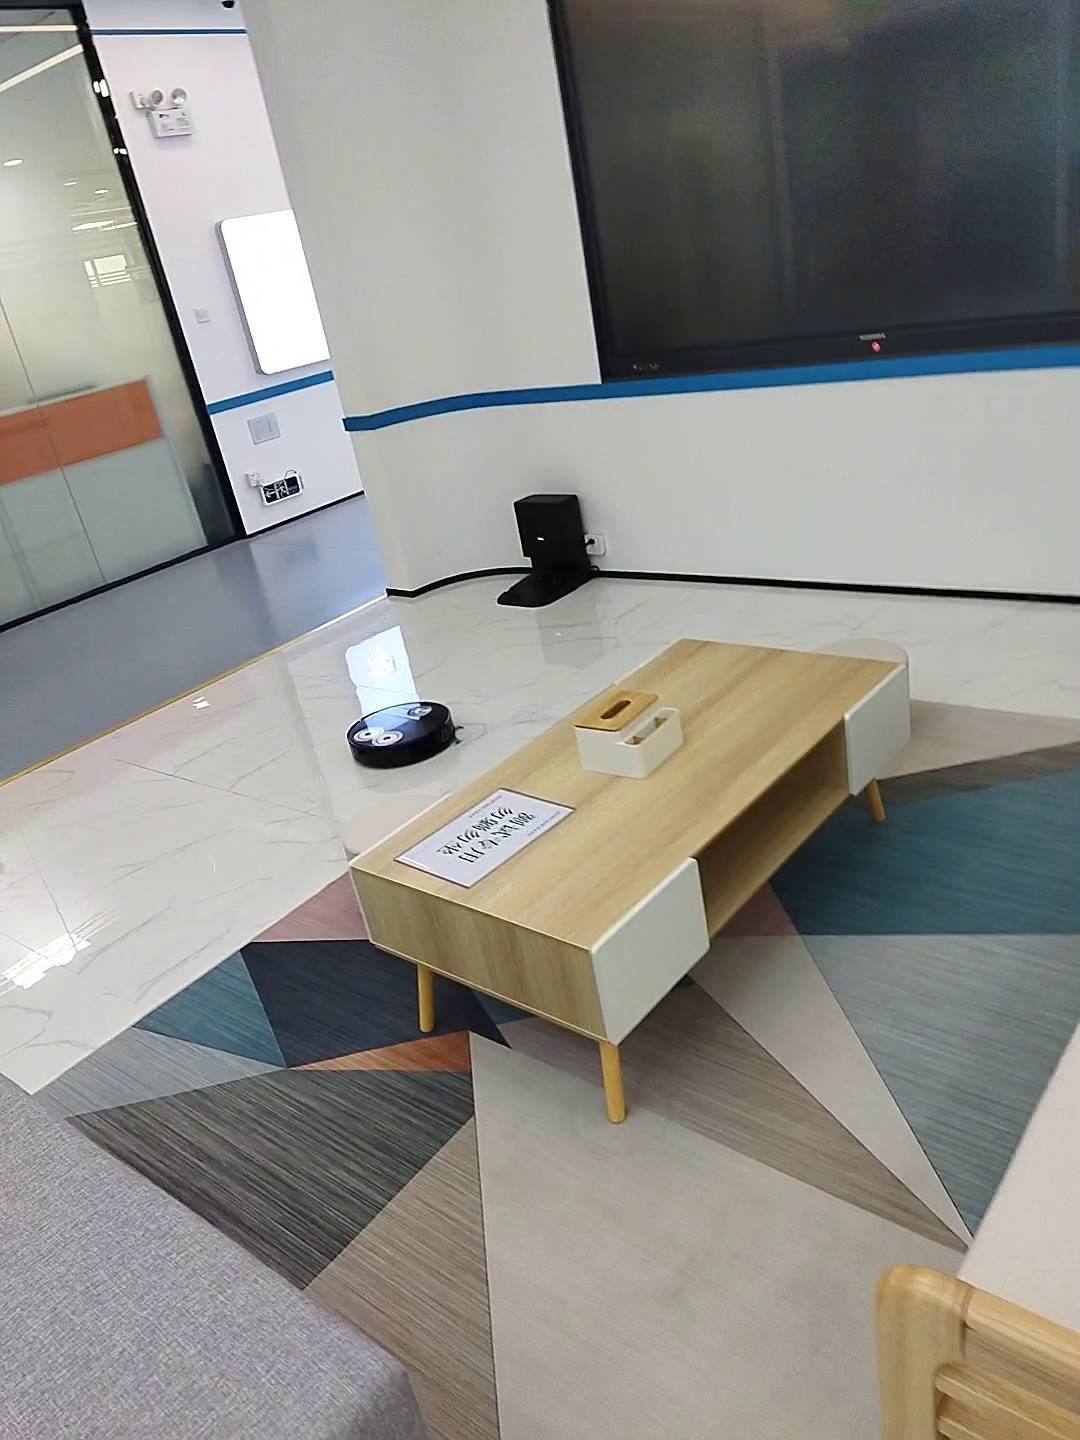dust collecting barrel: (495, 494, 594, 612)
